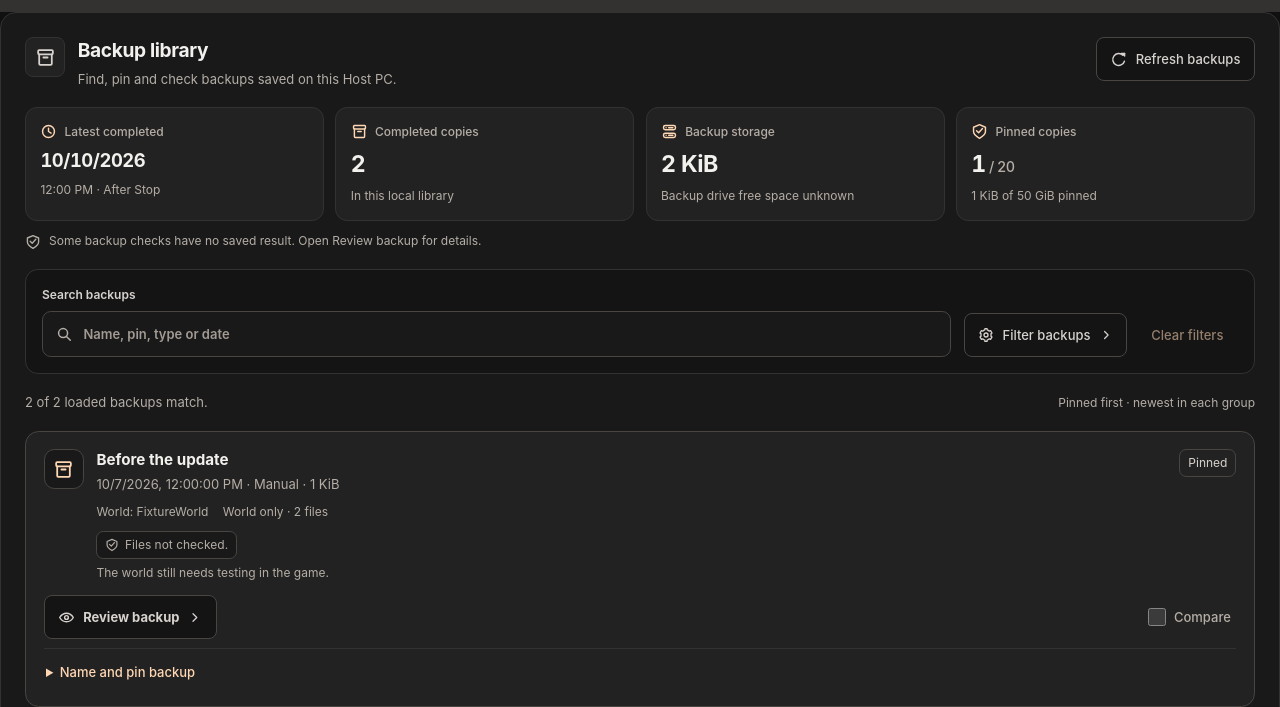
Test case: Backup catalog presentation › shows pending protection work outside a closed review and keeps competing actions disabled
The image size is (1280, 707).
What coordinates should you click on to do the following:
click the button "Review backup"
I would click on:
 (130, 617)
Its box is x1=44 y1=595 x2=217 y2=639.
(page scrolled)
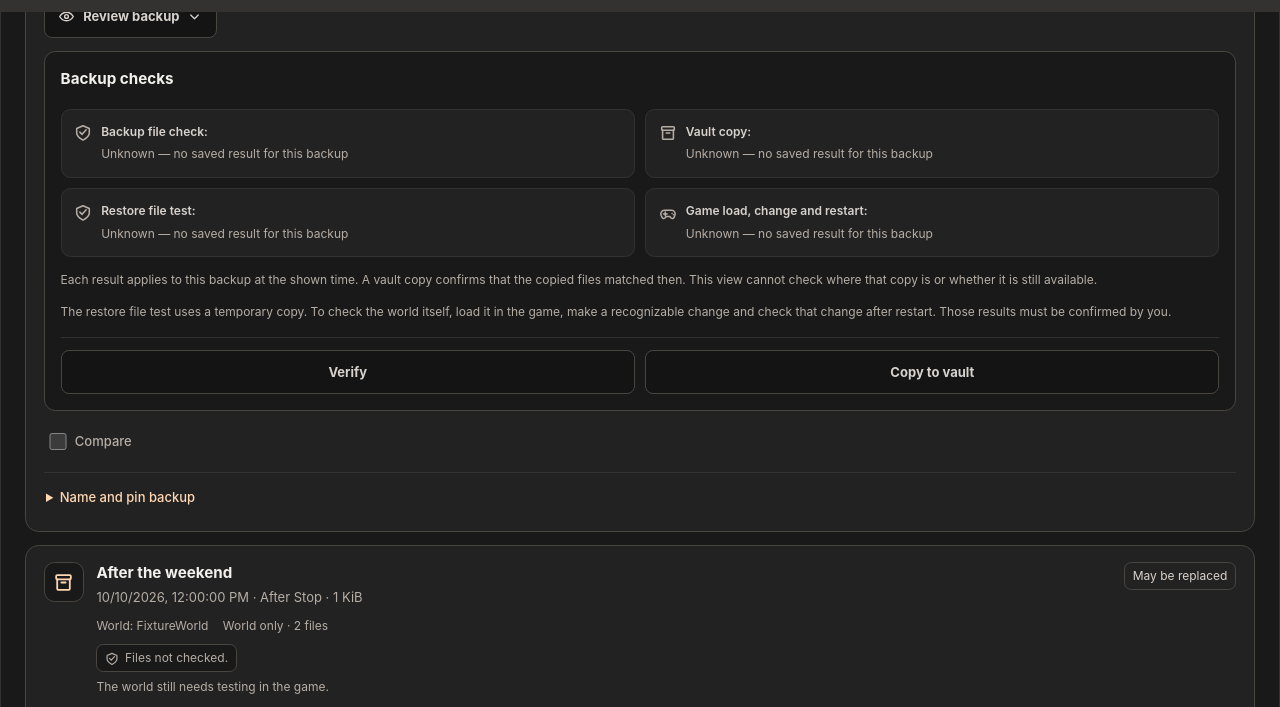
What coordinates should you click on to do the following:
click the button "Verify"
I would click on:
 (348, 372)
Its box is x1=61 y1=350 x2=635 y2=394.
(page scrolled)
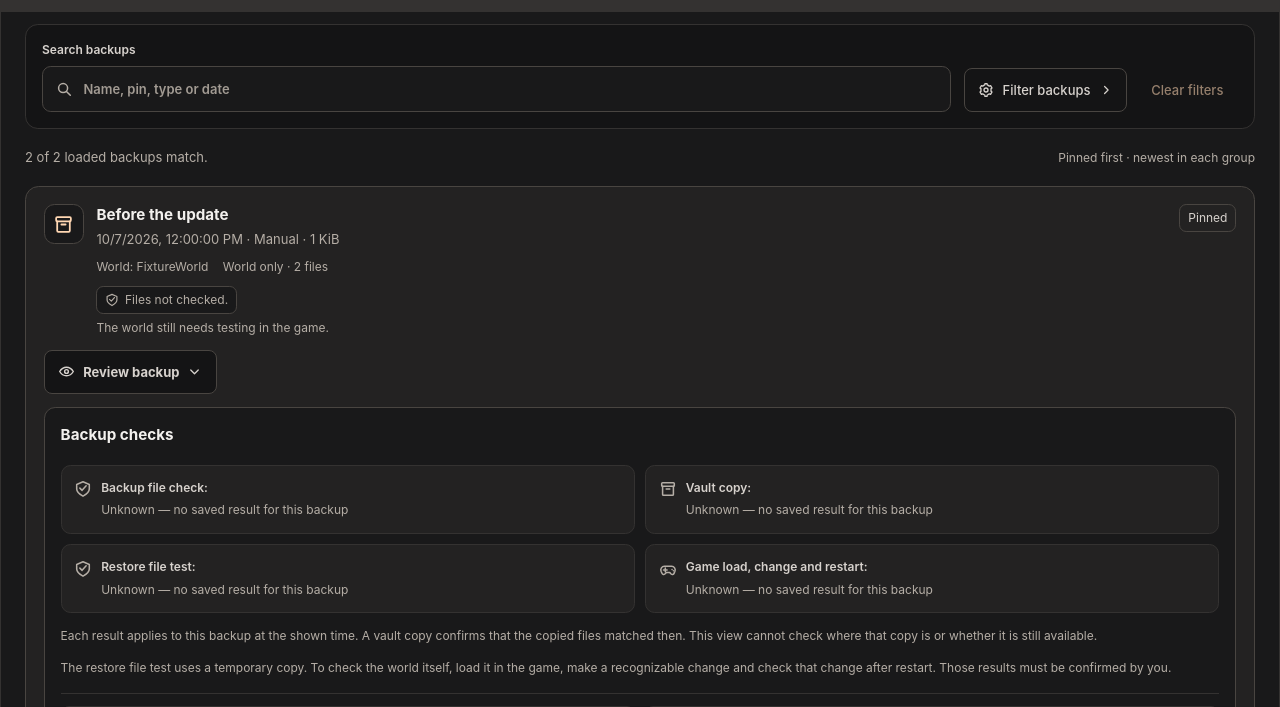
What coordinates should you click on to do the following:
click the button "Review backup"
I would click on:
 (130, 372)
Its box is x1=44 y1=350 x2=217 y2=394.
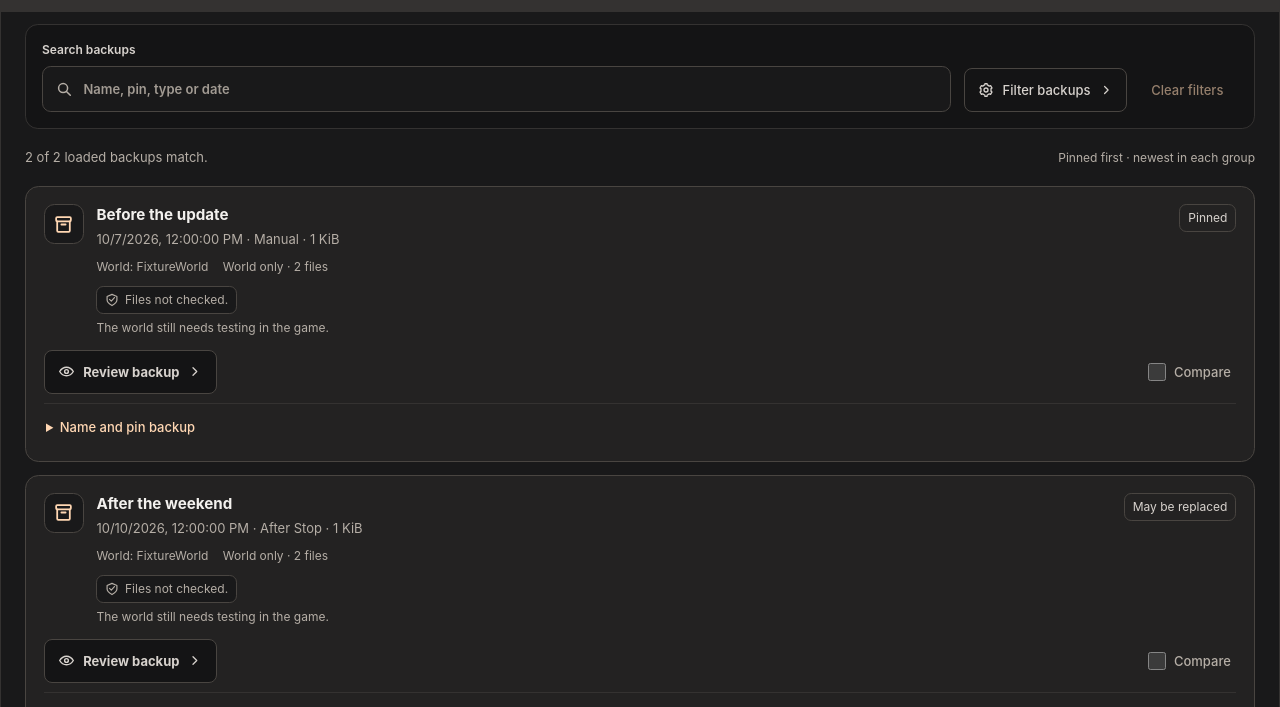
Check: the button "Review backup" below "10/7/2026, 12:00:00 PM" is collapsed
What coordinates should you click on to do the following:
click the button "Review backup" below "10/7/2026, 12:00:00 PM"
I would click on:
 (130, 372)
Its box is x1=44 y1=350 x2=217 y2=394.
(page scrolled)
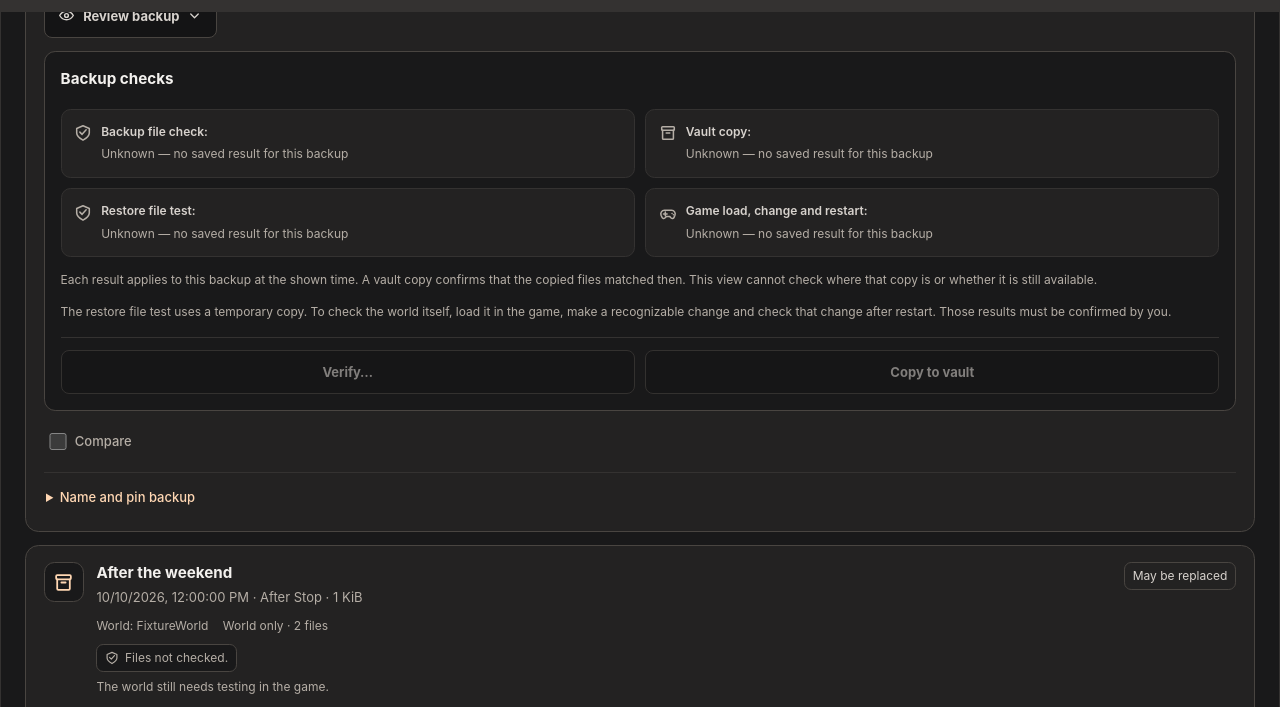
Check: the button "Copy to vault" is disabled
Check: the button "Verify…" is disabled, box x1=61 y1=350 x2=635 y2=394
What coordinates should you click on to do the following:
click the button "Copy to vault"
I would click on:
 (932, 372)
Its box is x1=645 y1=350 x2=1219 y2=394.
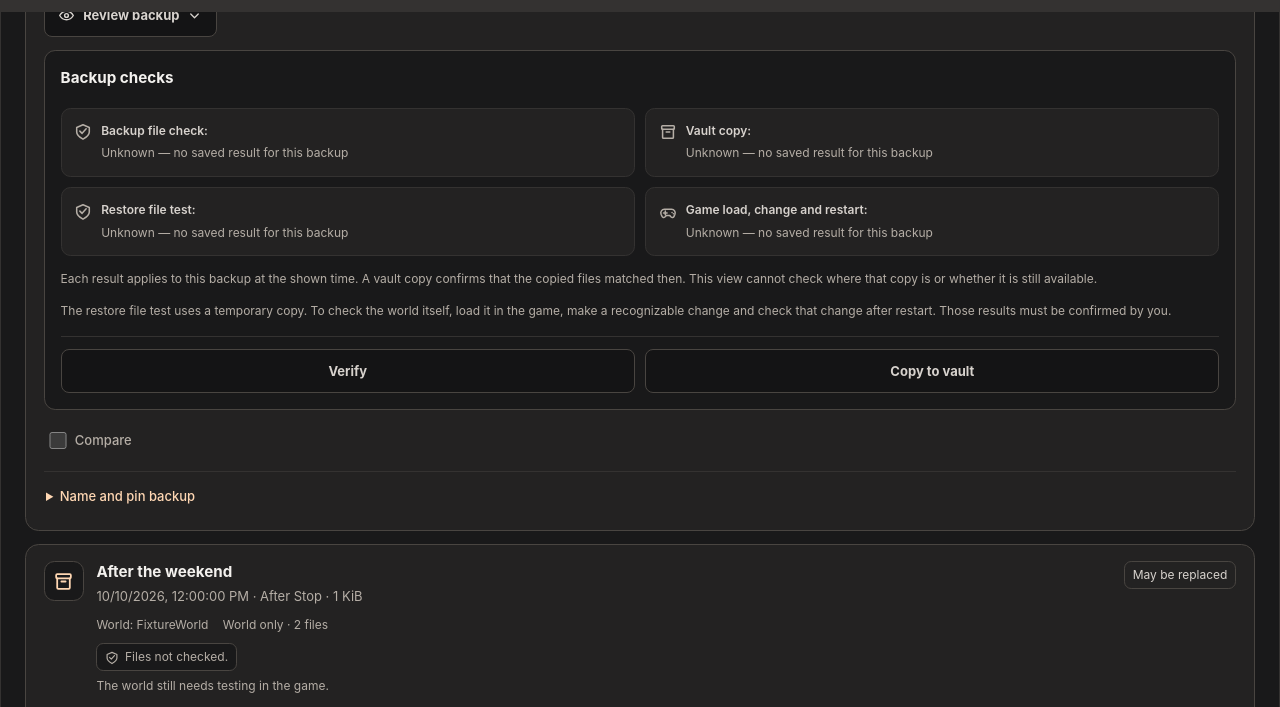
Check: the button "Verify" is enabled, box x1=61 y1=349 x2=635 y2=393
